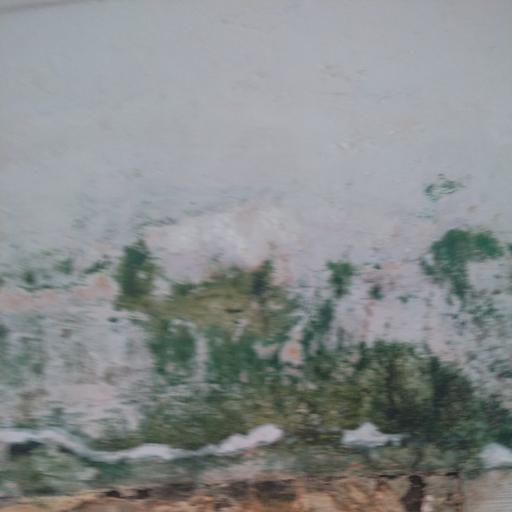algae: (0, 204, 512, 512)
